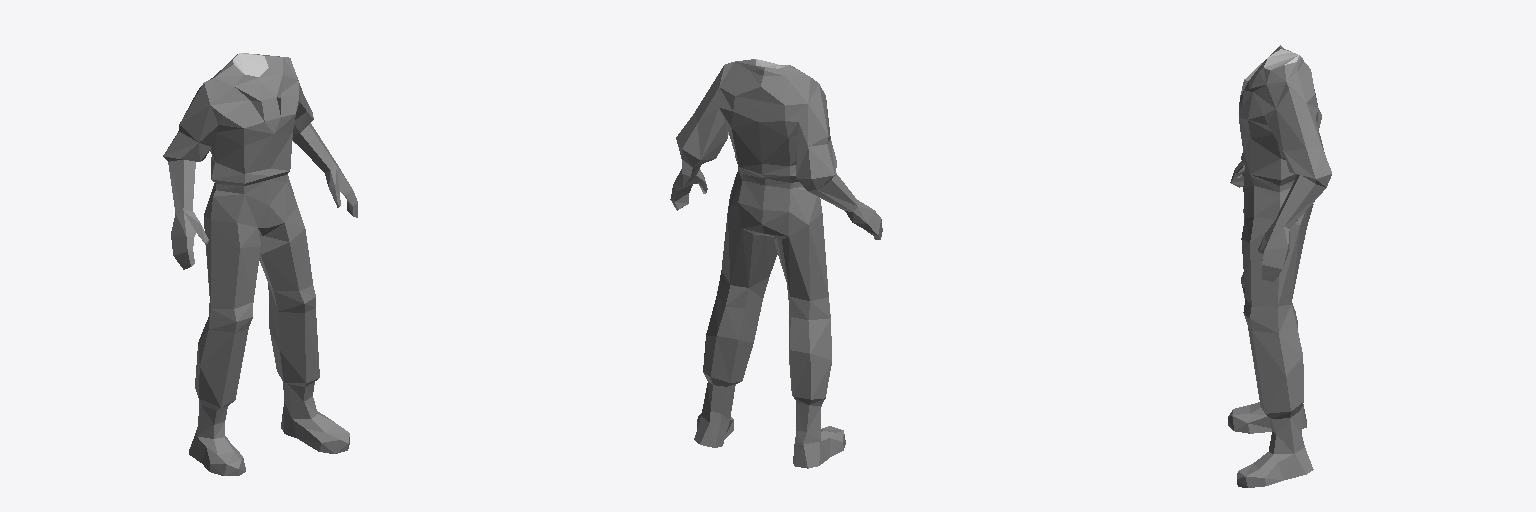
File: CutterBody.obj
3 views of the same model, side by side, from view 1: azimuth 30°, elevation 25°; view 2: azimuth 150°, elevation 25°; view 3: azimuth 270°, elevation 25° (orthographic).
Visible parts, largest first — view 1: Regroup51; view 2: Regroup51; view 3: Regroup51.
Part boxes in pixels (bbox=[...]): Regroup51: bbox=[163, 53, 357, 475]; Regroup51: bbox=[670, 59, 882, 468]; Regroup51: bbox=[1228, 45, 1331, 487].
Bounding box in the file's own units: 0.5149 × 1.01 × 0.2429.